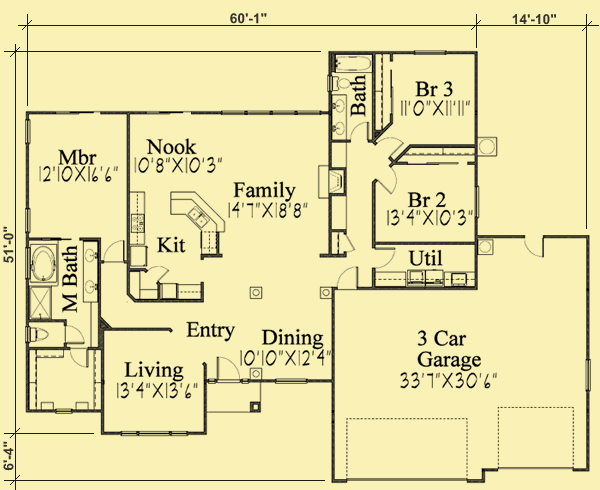door: (372, 163, 399, 197), (214, 357, 241, 384), (335, 263, 361, 290), (374, 136, 404, 159), (99, 238, 125, 264), (372, 246, 396, 271), (523, 233, 547, 258), (62, 321, 85, 347), (348, 120, 369, 147), (67, 347, 89, 369), (145, 264, 170, 282)
kitchen_bar: (166, 186, 225, 238)
large_sink: (26, 321, 49, 347)
small_sink: (80, 239, 98, 304), (332, 94, 347, 140)
tub: (25, 239, 60, 287), (331, 54, 377, 75)
windows: (117, 428, 190, 439), (270, 376, 312, 387), (581, 357, 593, 391), (24, 115, 33, 147), (24, 206, 32, 235)
